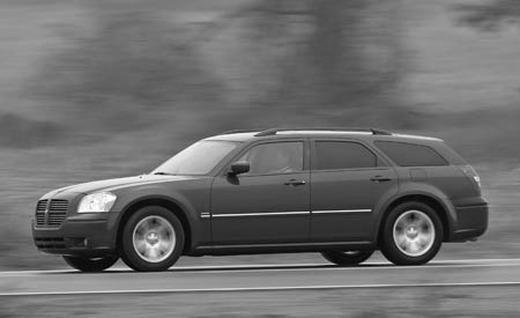car: (28, 124, 493, 274)
